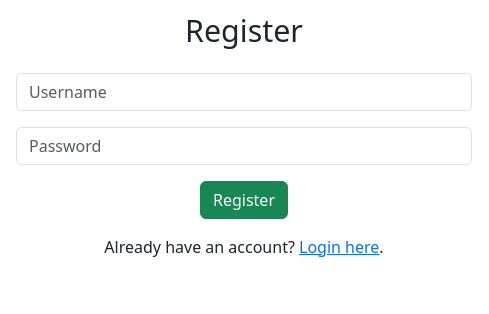
Test: Register Component › should display error message on registration failure
This screenshot has width=489, height=314.
In the field with test id "username-input": (244, 92) [16,72,472,110], type "newuser"
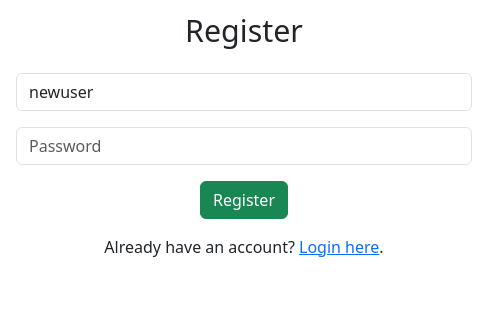
In the password field with test id "password-input": (244, 146) [16,126,472,164], type "longenoughpassword"
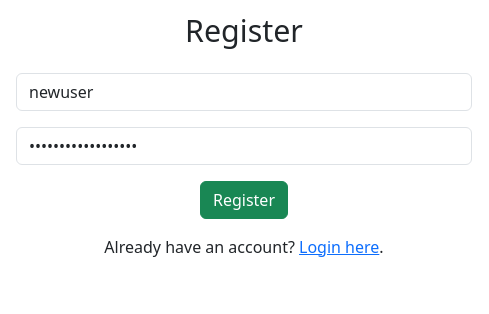
Click the button "Register": (244, 200) [200,180,288,218]
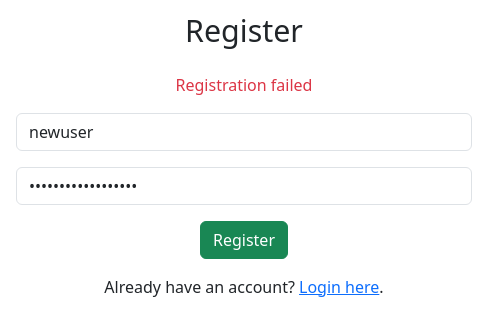
Now the text "Registration failed" is shown, box [176,74,312,96]
